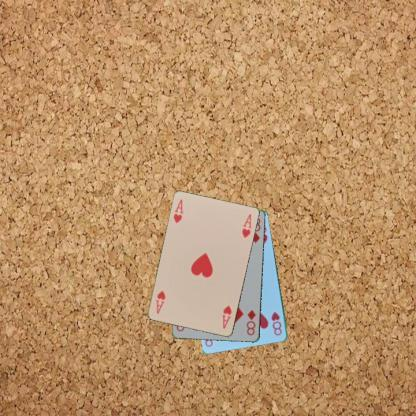8d: (244, 307, 258, 337)
8h: (268, 309, 284, 337)
Ah: (171, 197, 185, 225), (219, 303, 233, 330)
